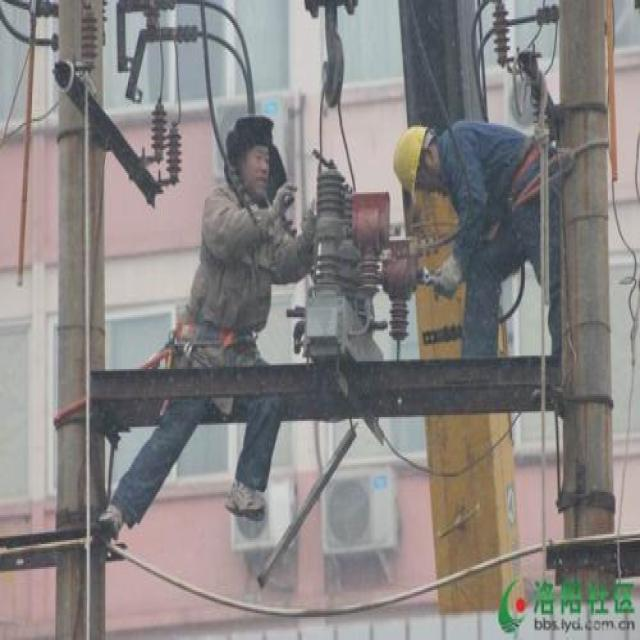helmet: (389, 121, 444, 204)
no-helmet: (220, 108, 286, 213)
